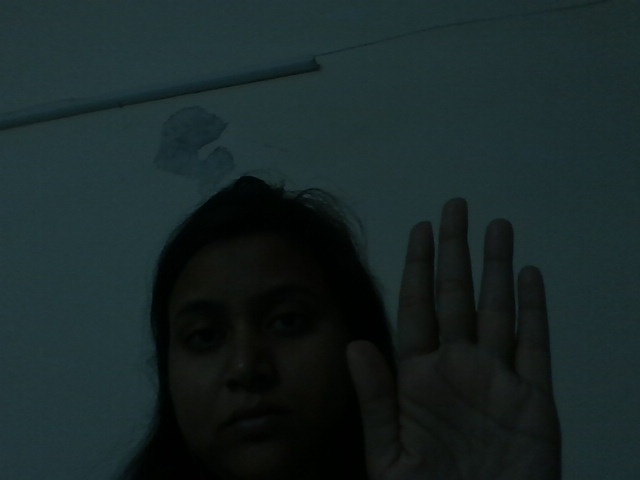pause: (314, 188, 591, 475)
